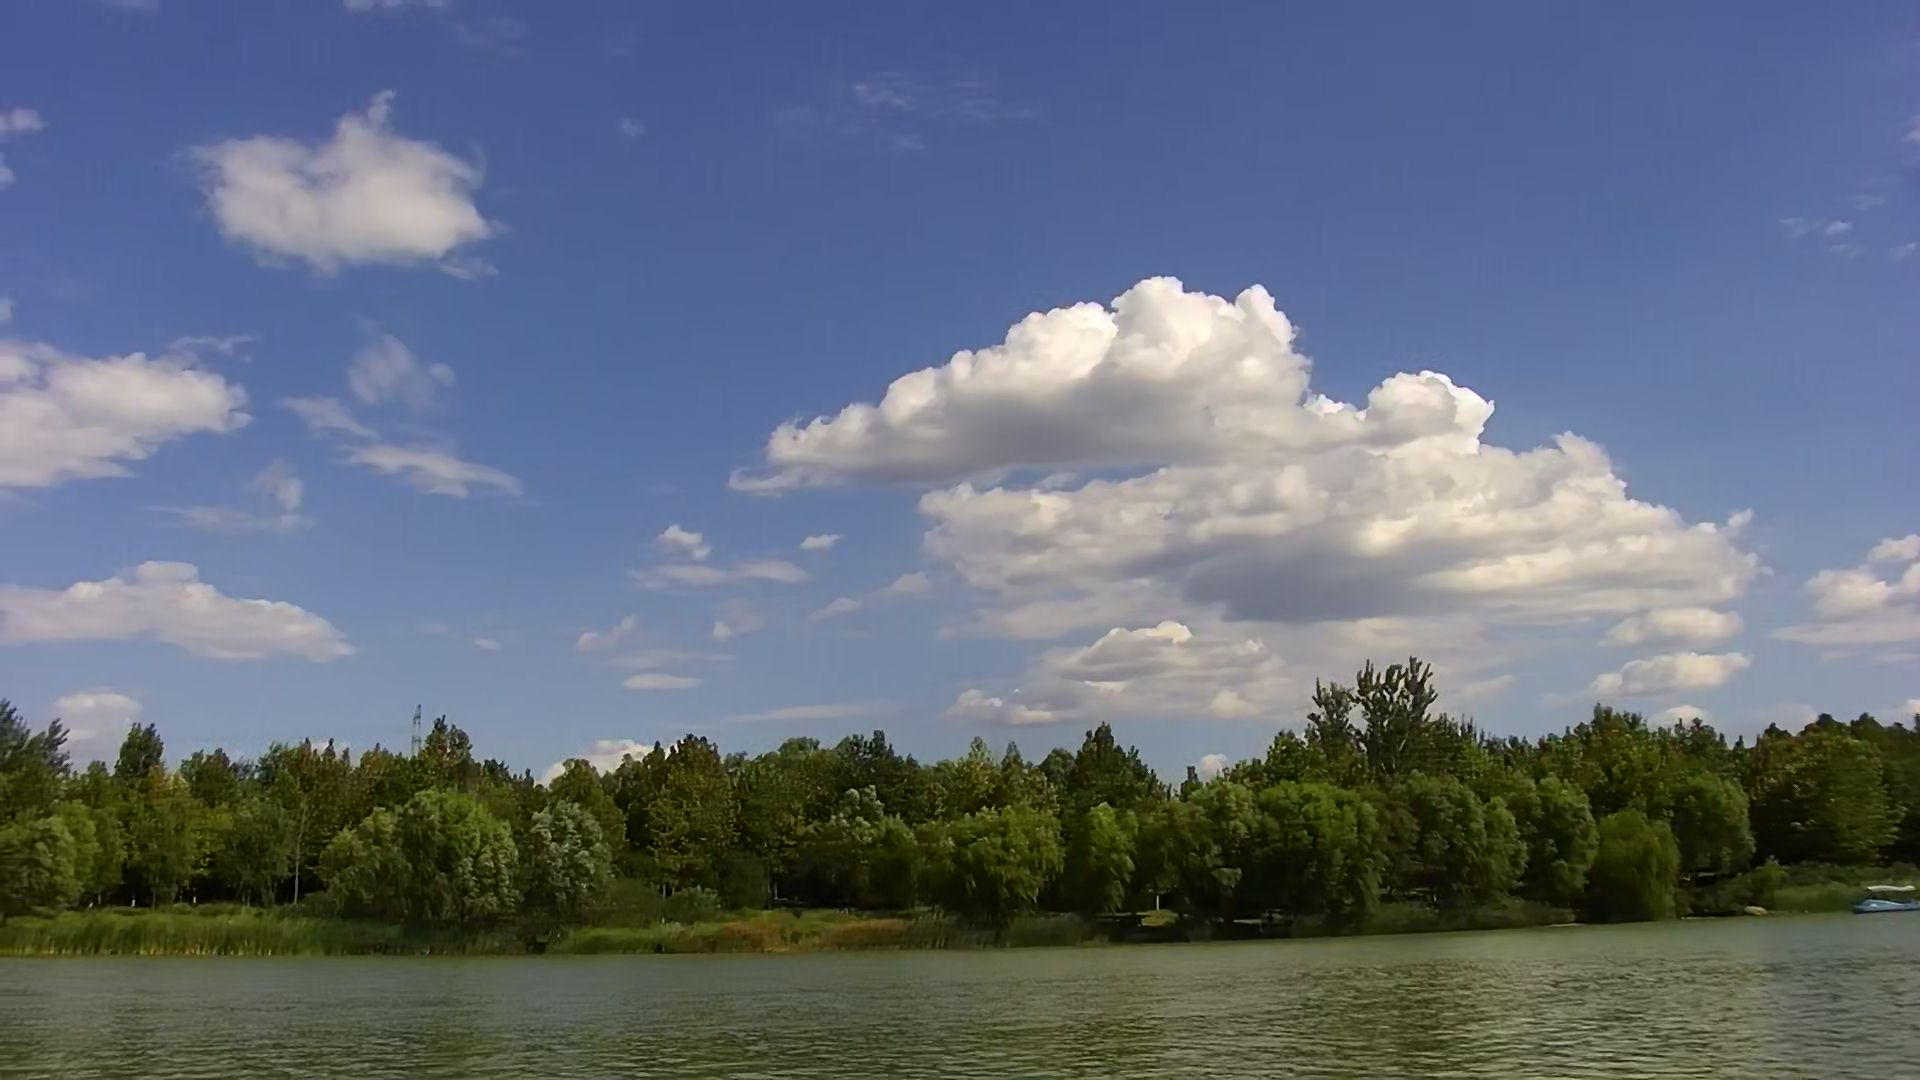boat: (1851, 878, 1920, 915)
